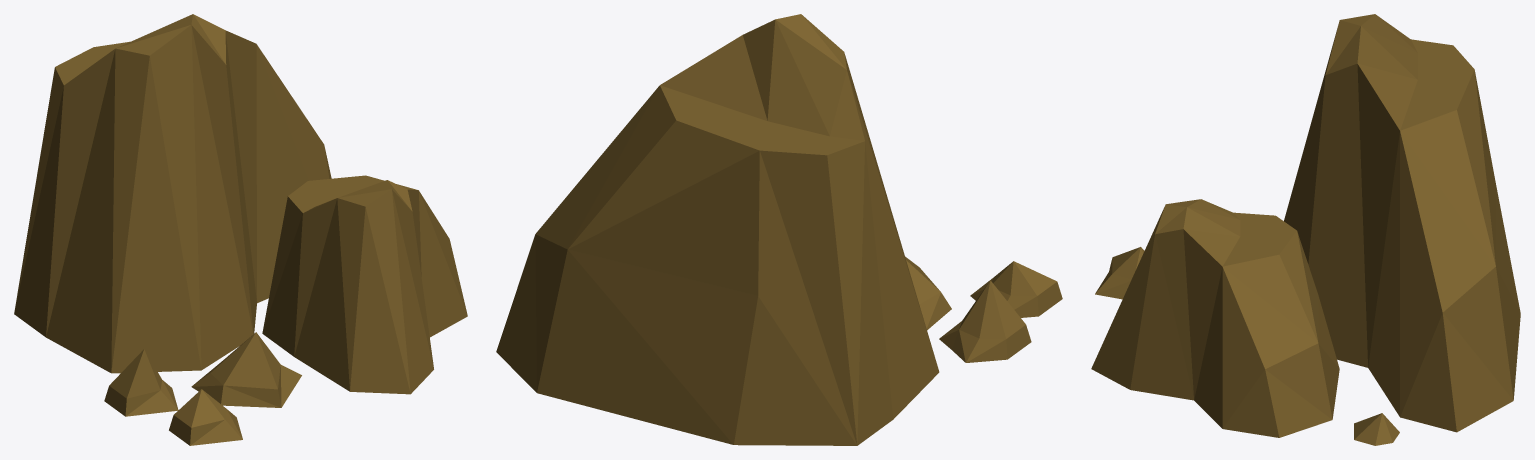
File: obj_rock_3_0.obj
3 renders of one model, left to right at view 1: azimuth 30°, elevation 25°; view 2: azimuth 150°, elevation 25°; view 3: azimuth 270°, elevation 25°, orthographic. The views are drawn at different scales.
Bounding box in the file's own units: 0.9531 × 0.75 × 0.9453.
